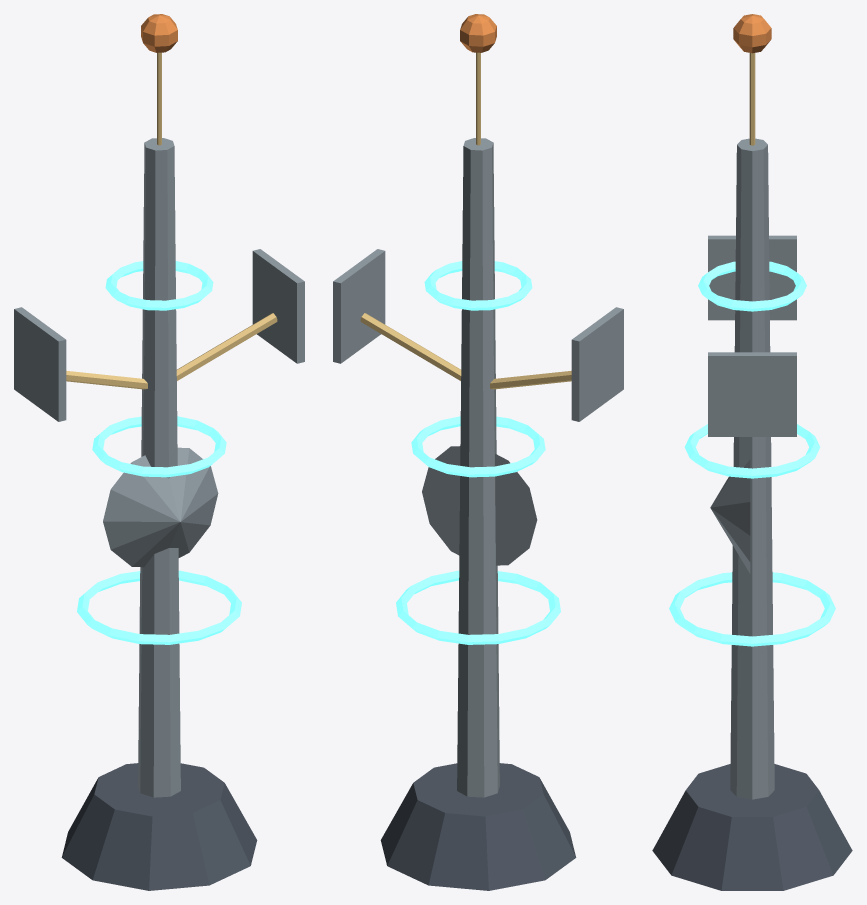
The model's file is sub_antenna_mast.glb.
3 renders of one model, left to right at view 1: azimuth 30°, elevation 25°; view 2: azimuth 150°, elevation 25°; view 3: azimuth 270°, elevation 25°, orthographic.
Parts seen in each view (by area): view 1: sub_antenna_mast_hull, sub_antenna_mast_dark, sub_antenna_mast_glow, sub_antenna_mast_brass, sub_antenna_mast_accent; view 2: sub_antenna_mast_hull, sub_antenna_mast_dark, sub_antenna_mast_glow, sub_antenna_mast_brass, sub_antenna_mast_accent; view 3: sub_antenna_mast_hull, sub_antenna_mast_dark, sub_antenna_mast_glow, sub_antenna_mast_accent, sub_antenna_mast_brass.
Part boxes in pixels (<box>): sub_antenna_mast_hull: <box>14,138,304,797</box>; sub_antenna_mast_dark: <box>61,763,257,890</box>; sub_antenna_mast_glow: <box>77,261,241,644</box>; sub_antenna_mast_brass: <box>66,52,277,389</box>; sub_antenna_mast_accent: <box>141,14,177,52</box>; sub_antenna_mast_hull: <box>333,138,623,797</box>; sub_antenna_mast_dark: <box>380,763,576,890</box>; sub_antenna_mast_glow: <box>396,261,560,644</box>; sub_antenna_mast_brass: <box>360,52,571,389</box>; sub_antenna_mast_accent: <box>460,14,496,52</box>; sub_antenna_mast_hull: <box>708,138,796,799</box>; sub_antenna_mast_dark: <box>652,764,852,890</box>; sub_antenna_mast_glow: <box>669,261,835,646</box>; sub_antenna_mast_accent: <box>733,14,771,53</box>; sub_antenna_mast_brass: <box>749,53,755,145</box>.
Bounding box in the file's own units: 1.28 × 4.14 × 0.9.
